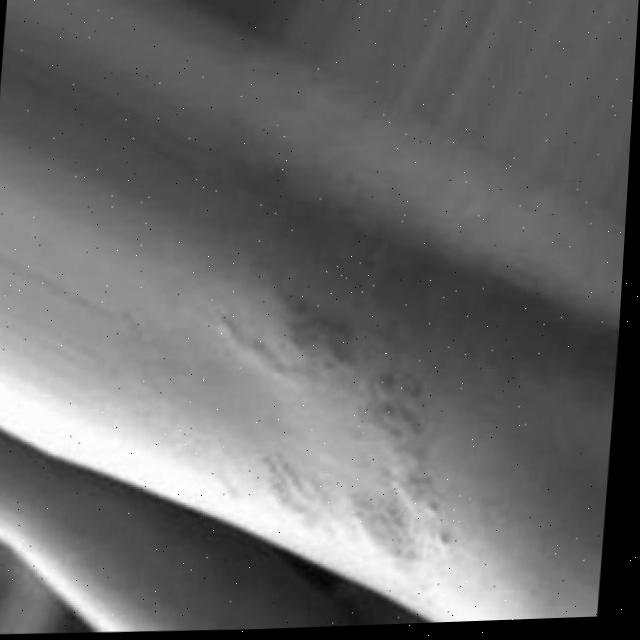Shingles: (245, 303, 445, 568)
